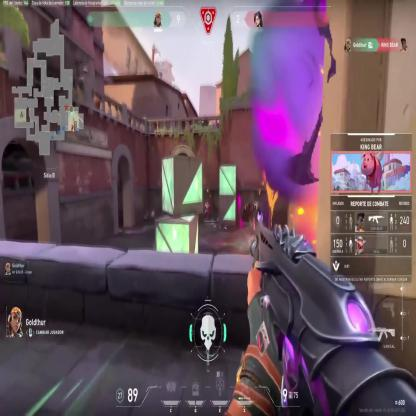enemy: (204, 200, 210, 220)
enemy_head: (206, 199, 208, 204)
